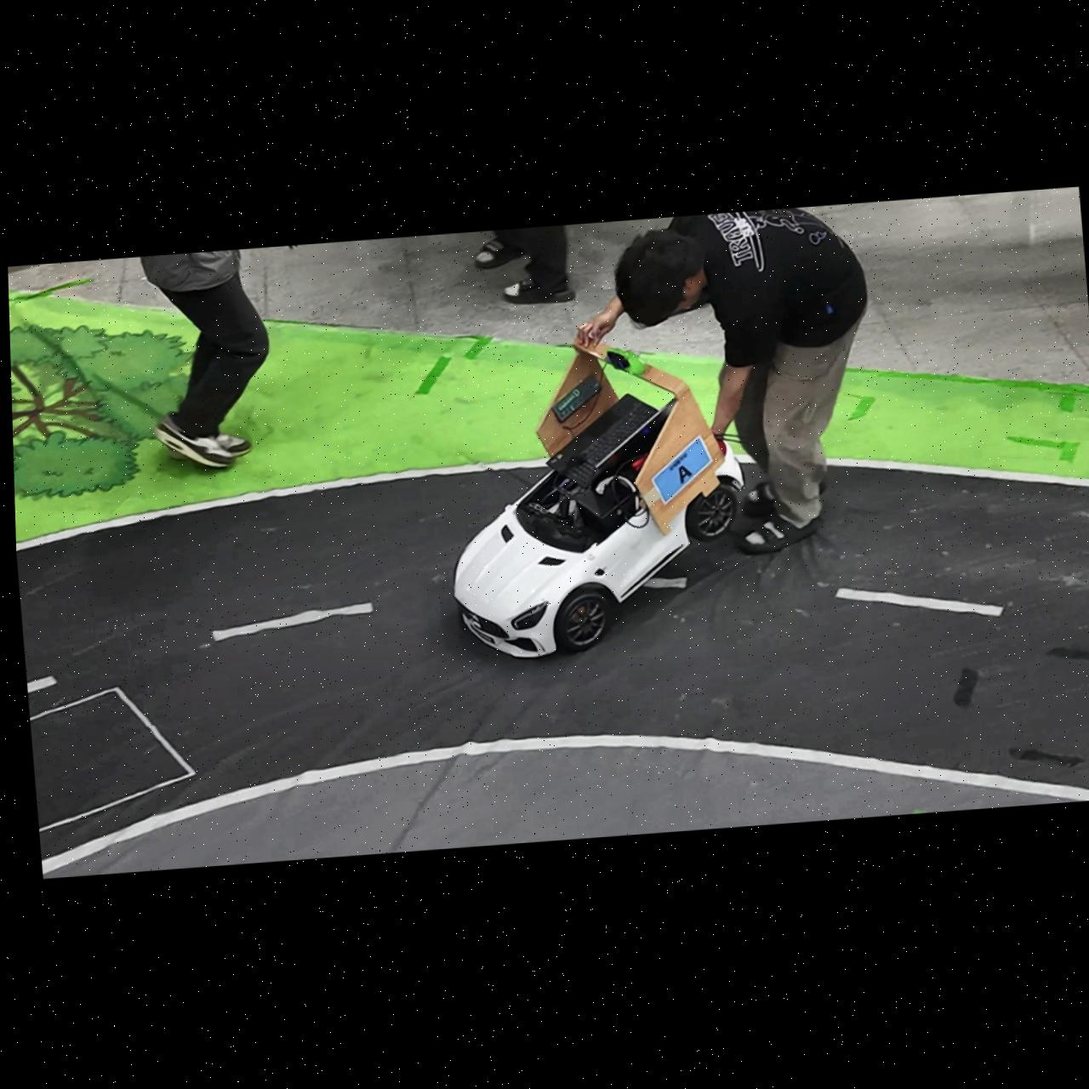broken_line: (211, 601, 374, 642), (835, 588, 1004, 616), (27, 675, 57, 694), (643, 577, 687, 588)
